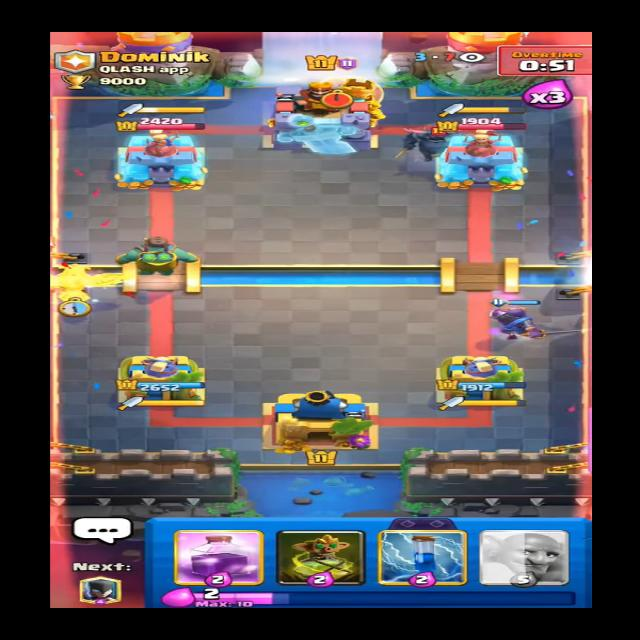evo-wizard: (328, 73, 386, 116)
pekka: (399, 120, 478, 162)
